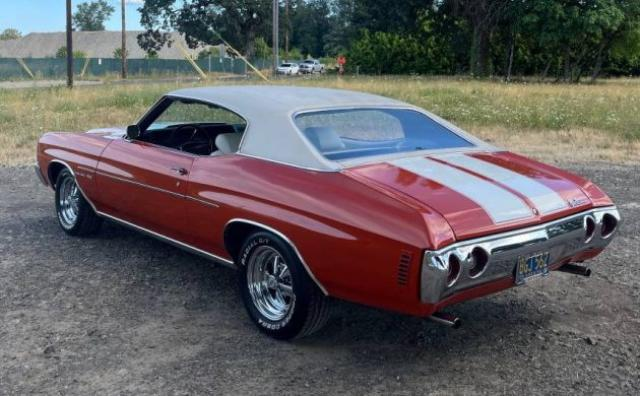chevelle-1972: (35, 85, 622, 339)
